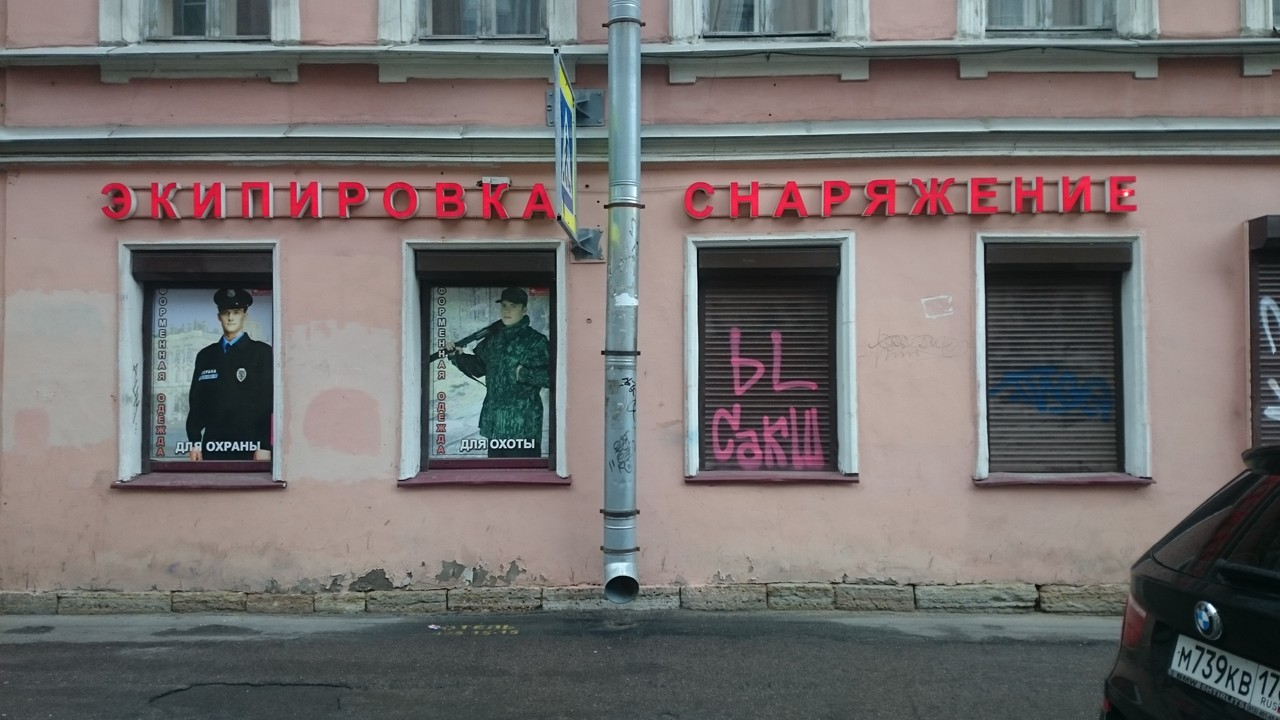signboard: (91, 174, 550, 229), (678, 177, 1141, 218)
window: (987, 242, 1134, 477), (699, 246, 841, 473), (413, 244, 552, 474), (142, 250, 275, 476)
